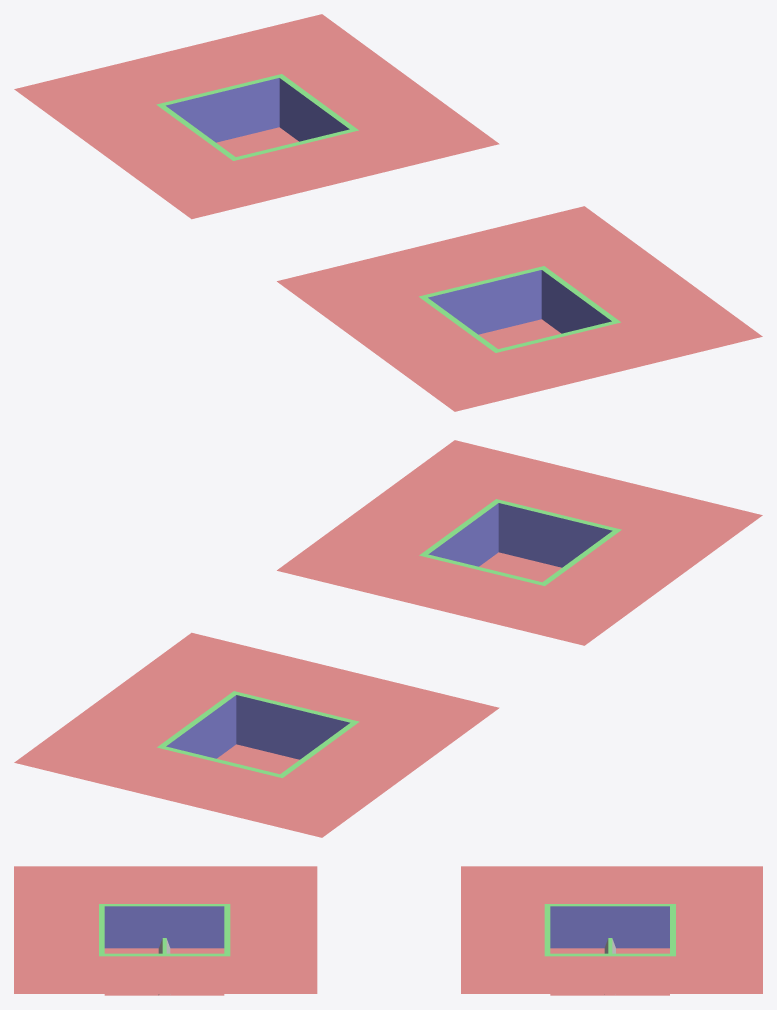
Rendered from SSQ_BRoom03_Btm.gltf.
The picture shows the model from 3 angles, top to bottom: view 1: azimuth 30°, elevation 25°; view 2: azimuth 150°, elevation 25°; view 3: azimuth 270°, elevation 25°; orthographic projection. The views are drawn at different scales.
Parts seen in each view (by area): view 1: SSQ_BRoom03_Btm; view 2: SSQ_BRoom03_Btm; view 3: SSQ_BRoom03_Btm.
Part boxes in pixels (x1,y1,x2,y2): SSQ_BRoom03_Btm: [14, 14, 762, 411]; SSQ_BRoom03_Btm: [14, 440, 762, 837]; SSQ_BRoom03_Btm: [14, 866, 762, 995].
Size of the model in its own units: 3.13 by 0.48 by 7.76.
